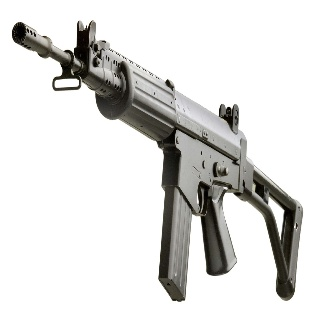rifle: (11, 18, 306, 308)
